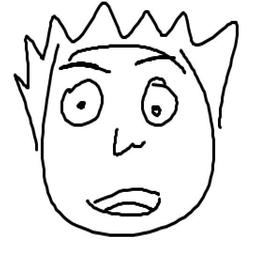eye: (57, 77, 106, 130), (136, 74, 180, 129)
eyebrow: (56, 59, 115, 74)
frowning_eyebrow: (133, 53, 170, 68)
nose: (110, 126, 147, 158)
open_mouth: (81, 180, 166, 222)
